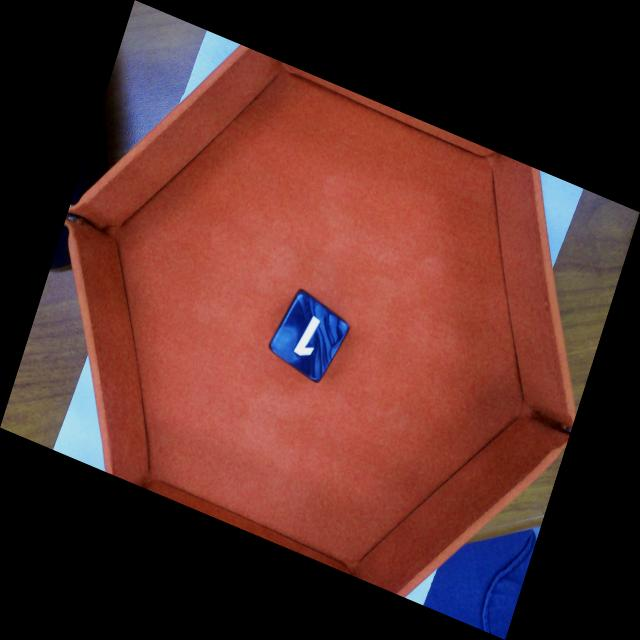dice: (267, 288, 352, 385)
